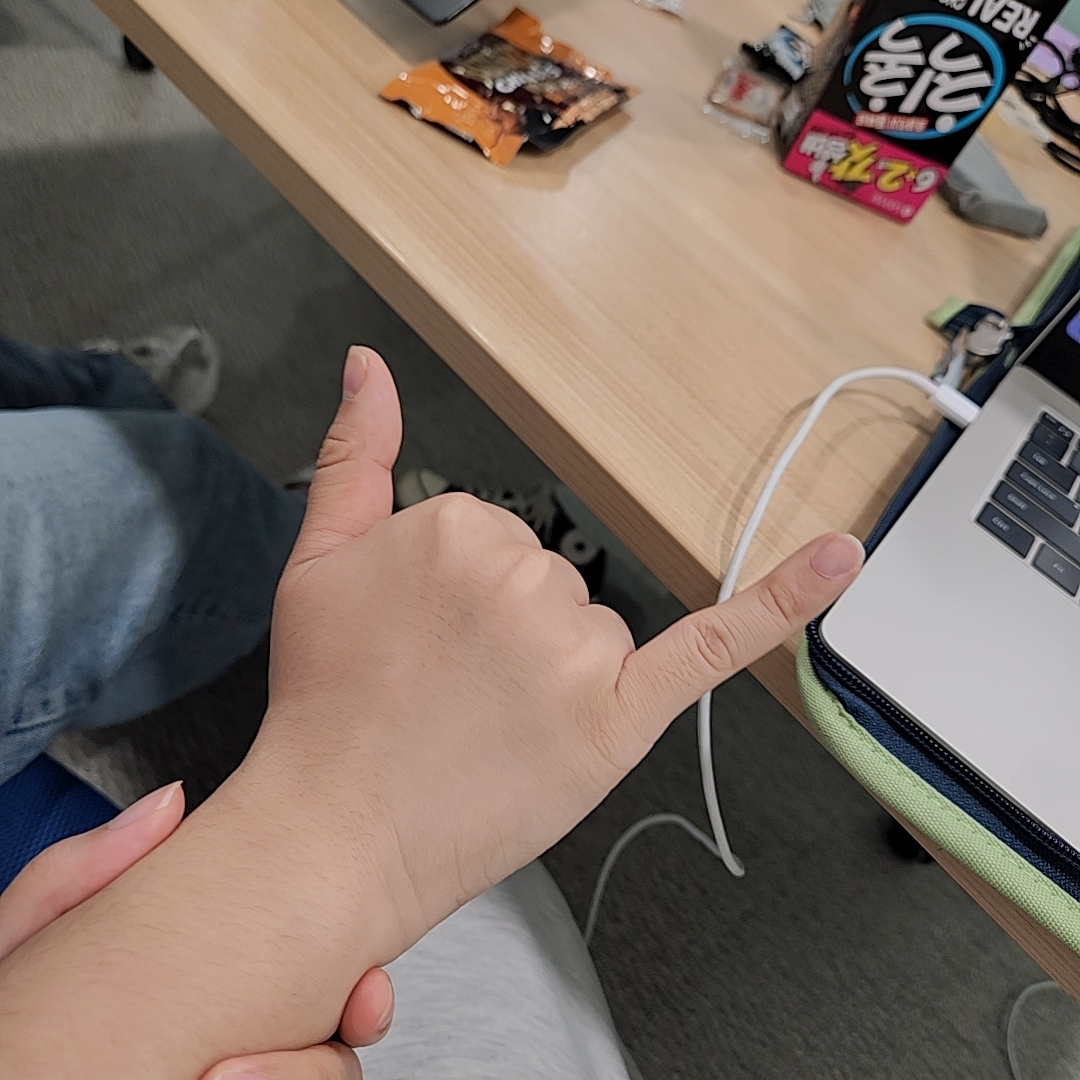call: (267, 344, 867, 891)
